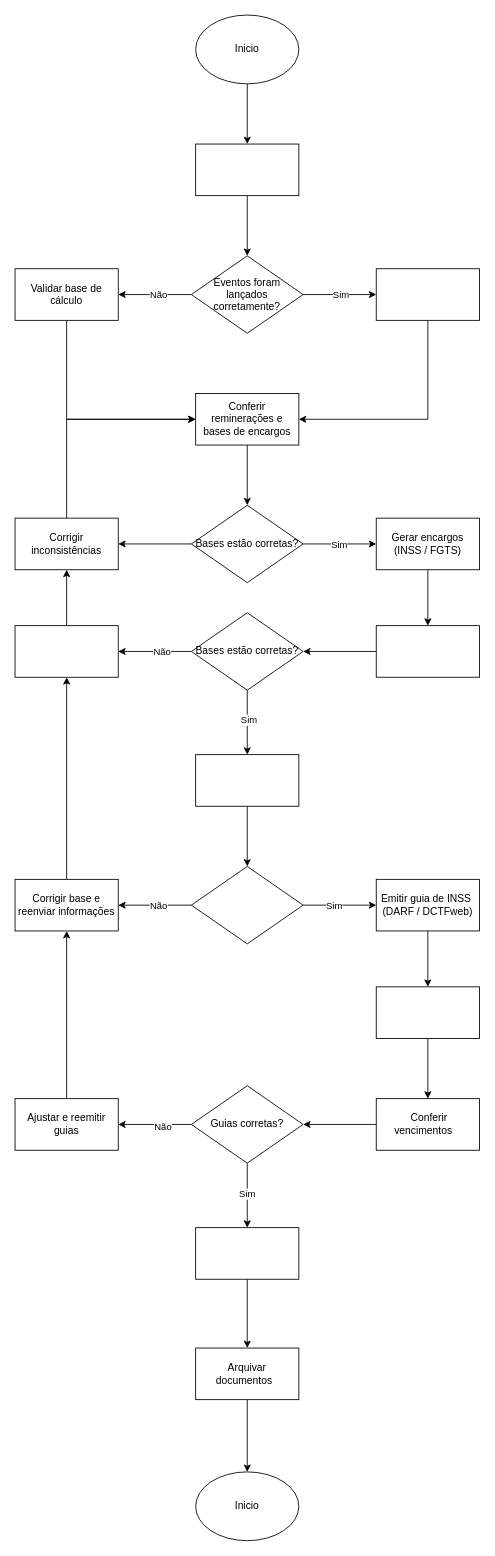
This 495x1556 diagram has some shape labels left out. The shapes that lost their labels are listed below. From the top down, each one's centre as x and y in pixels, then its label:
At (x=247, y=169): "Finalização da folha de pagamento".
At (x=427, y=294): "ajustar lançamentos (Folha / Eventos)".
At (x=66, y=651): "Corrigir erros no eSocial / Folha".
At (x=427, y=651): "Transmitir eventos ao eSocial".
At (x=247, y=780): "Conferir débitos e créditos".
At (x=246, y=905): "Valores corrertos?".
At (x=427, y=1012): "Emitir guia FGTS".
At (x=247, y=1253): "Enviar para o cliente".
